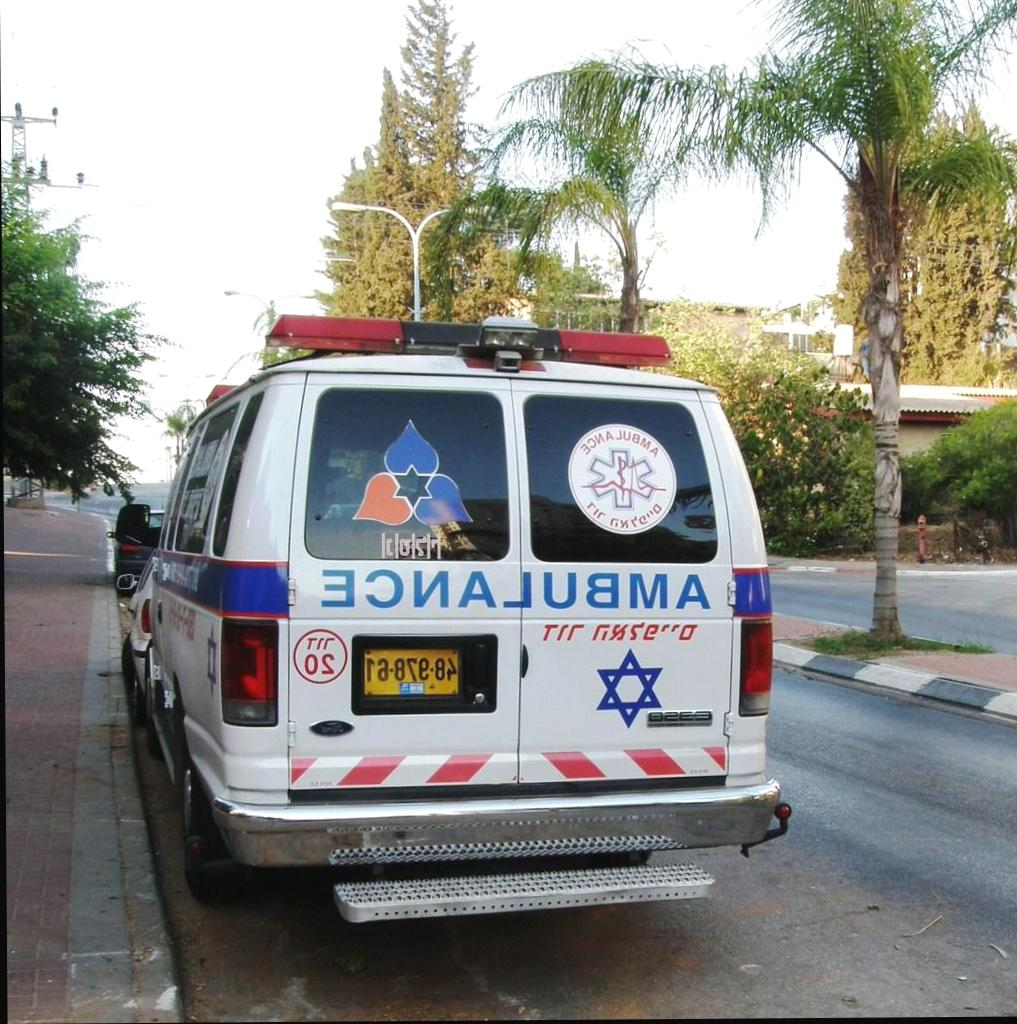License_Plate: (359, 642, 464, 698)
